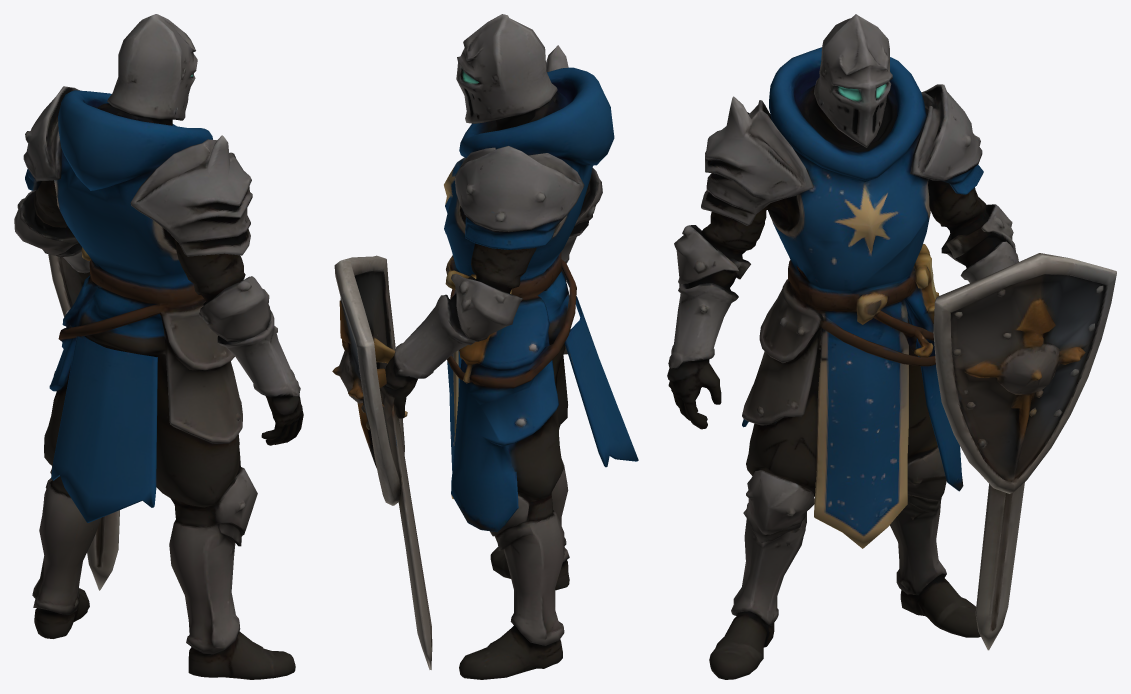
The picture shows the model from 3 angles, left to right: view 1: azimuth 30°, elevation 25°; view 2: azimuth 150°, elevation 25°; view 3: azimuth 270°, elevation 25°; orthographic projection. The views are drawn at different scales.
Parts seen in each view (by area): view 1: tripo_node_bf91aa13-1b06-4a1f-bc27-189c7c3e8c0b; view 2: tripo_node_bf91aa13-1b06-4a1f-bc27-189c7c3e8c0b; view 3: tripo_node_bf91aa13-1b06-4a1f-bc27-189c7c3e8c0b.
Part boxes in pixels (x1,y1,x2,y2): tripo_node_bf91aa13-1b06-4a1f-bc27-189c7c3e8c0b: [14, 14, 303, 679]; tripo_node_bf91aa13-1b06-4a1f-bc27-189c7c3e8c0b: [332, 14, 638, 679]; tripo_node_bf91aa13-1b06-4a1f-bc27-189c7c3e8c0b: [667, 14, 1116, 679].
Size of the model in its own units: 0.3327 by 1 by 0.6477.
1 material, 1 textured.
